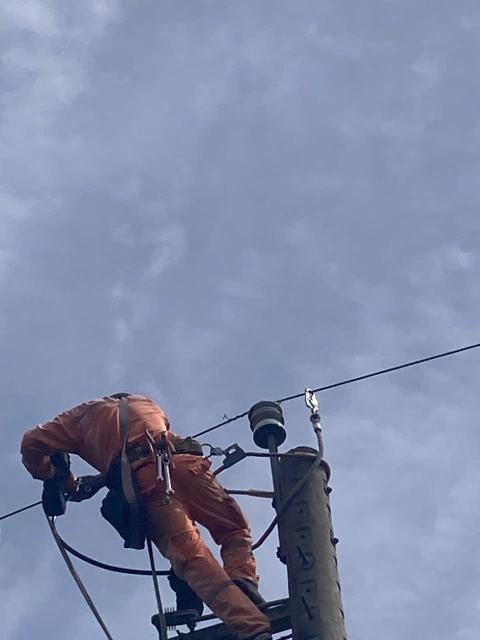harness: (104, 430, 234, 484)
shoes: (226, 561, 284, 624)
